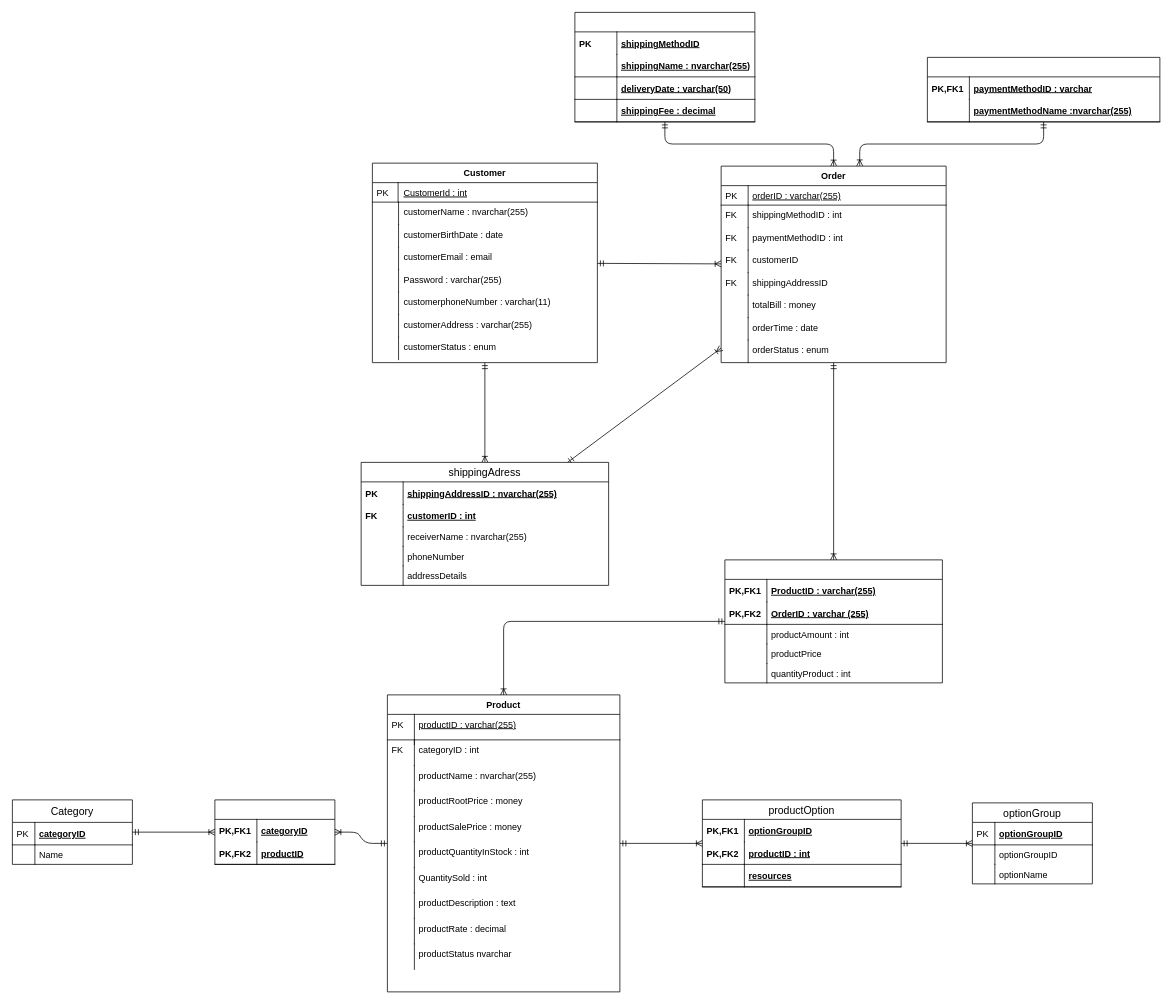
This 1172x1004 diagram has some shape labels left out. The shapes that lost their labels are listed below. From the top down, each one's box as (x1, y1, x2, y2) in pixels, then its label:
(574, 12, 755, 122): shippingMethods
(927, 57, 1160, 122): paymentMethodOfOrder
(724, 559, 942, 683): orderDetails
(214, 799, 335, 864): categoryDetails
